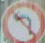Don't turn left: (2, 0, 44, 42)
